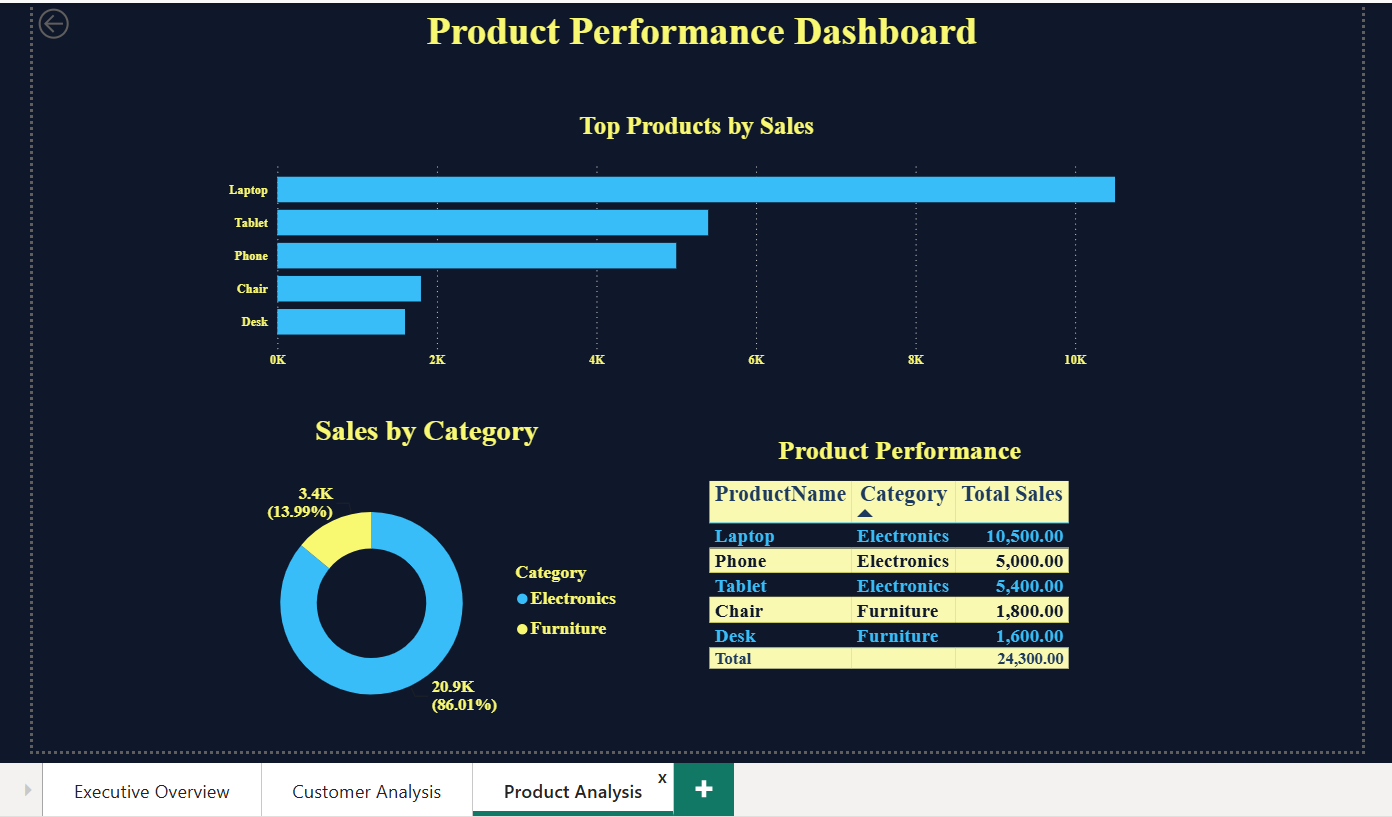

The dashboard page shown, as its layout file describes it:
{"tool":"powerbi","page":{"name":"Product Analysis","canvas":[1280,720],"ordinal":2},"visuals":[{"type":"textbox","box":[9.4,0,1270.8,59.7],"z":0},{"type":"clusteredBarChart","title":"Top Products by Sales","fields":{"Category":["Products.ProductName"],"Y":["Sum(Sales.TotalAmount)"]},"box":[182.2,103.7,914.3,256.1],"z":1},{"type":"donutChart","title":"Sales by Category","fields":{"Category":["Products.Category"],"Y":["Sum(Sales.TotalAmount)"]},"box":[182.2,395.9,394.3,323.6],"z":2},{"type":"tableEx","title":"Product Performance","fields":{"Values":["Products.ProductName","Products.Category","Sum(Sales.TotalAmount)"]},"box":[645.6,416.3,378.6,290.6],"z":3},{"type":"actionButton","box":[0,0,100,40],"z":4}]}

Visuals, with their boxes on the page's 1280x720 design canvas (x1, y1, x2, y2). These are canvas units, not pixel positions in the 1392x817 screenshot, which may show the page scaled, cropped or inside an application window:
textbox: 9, 0, 1280, 60
"Top Products by Sales" clusteredBarChart: 182, 104, 1096, 360
"Sales by Category" donutChart: 182, 396, 576, 720
"Product Performance" tableEx: 646, 416, 1024, 707
actionButton: 0, 0, 100, 40
